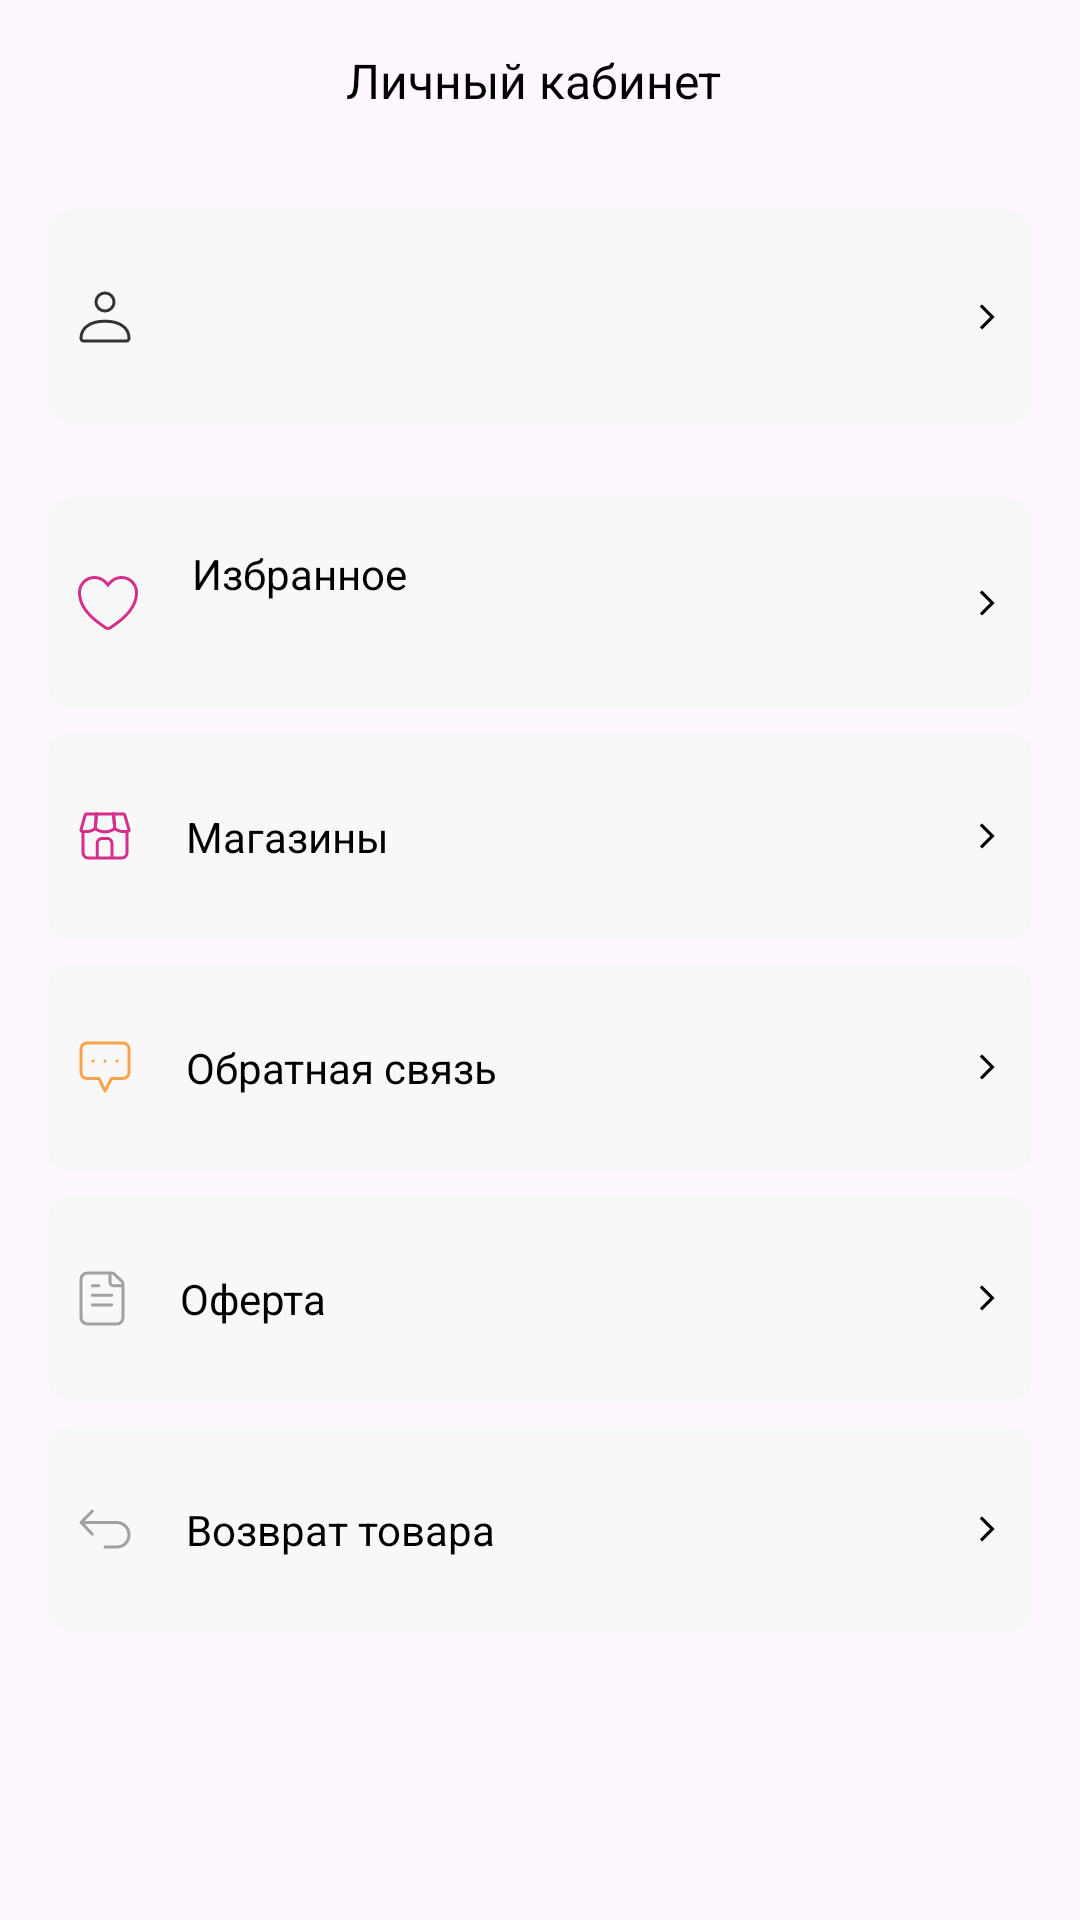

Icons on this 1080px×1920px Android screen, each with its box as (x1, y1, x2, y2):
arrow right: (980, 304, 995, 330), (980, 590, 995, 616), (980, 823, 995, 849), (980, 1054, 995, 1080), (980, 1285, 995, 1311), (980, 1516, 995, 1542)
back item: (79, 1509, 131, 1549)
chat: (79, 1041, 131, 1093)
document: (79, 1271, 125, 1326)
heart: (78, 576, 138, 630)
profile: (79, 291, 131, 343)
shop: (79, 812, 131, 860)
